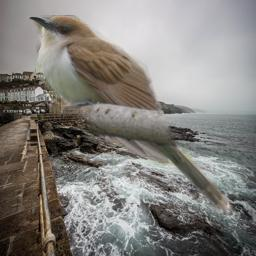Cuckoo: (27, 15, 233, 215)
